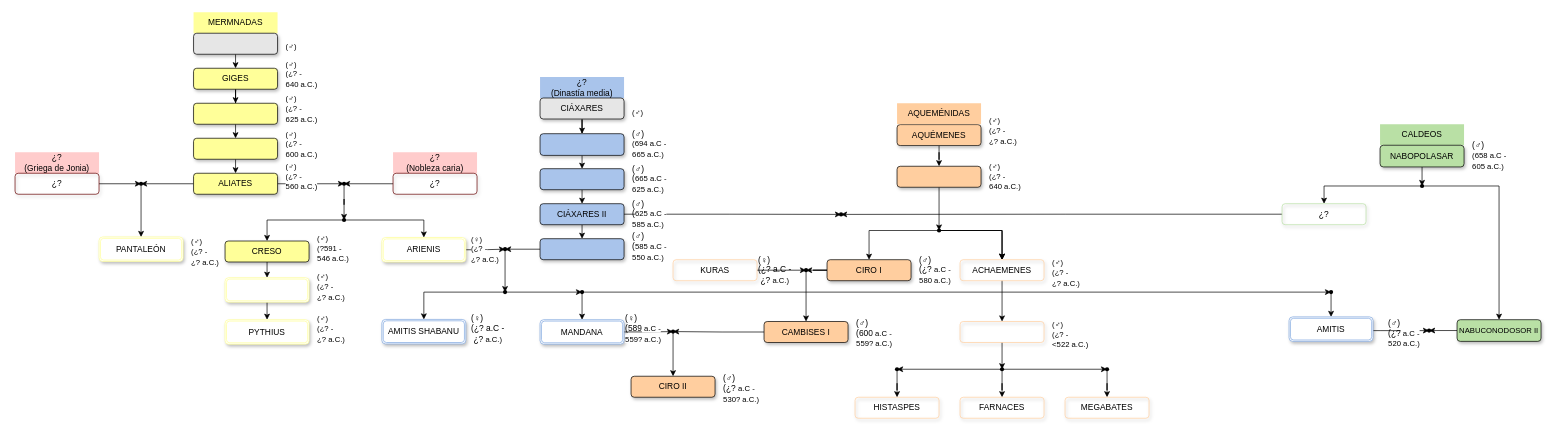
Image size: 1558x435. Some labels were removed from this diagram. Each missing label, with the centre of its shape:
"ARDIS" goes at (236,114).
"ARSAMES" goes at (1002,332).
"ASTIAGES" goes at (582,250).
"ATIS" goes at (267,290).
"DEYOCES" goes at (582,145).
"DÁSCYLO" goes at (236,44).
"FRAORTES" goes at (582,180).
"SADIATES" goes at (236,149).
"TEISPES" goes at (939,177).
